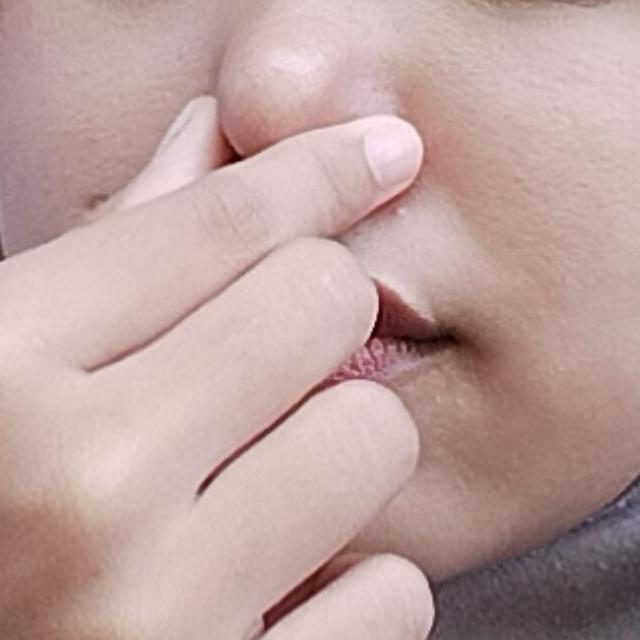bau: (0, 8, 566, 640)
